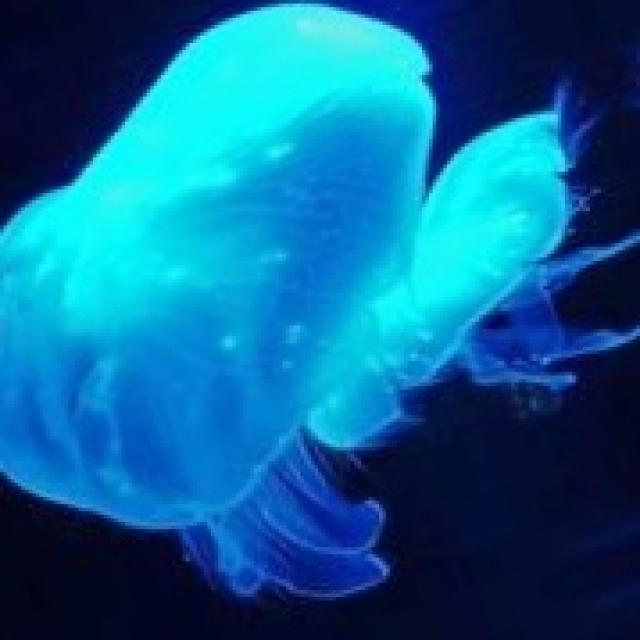Human: (0, 0, 590, 608)
